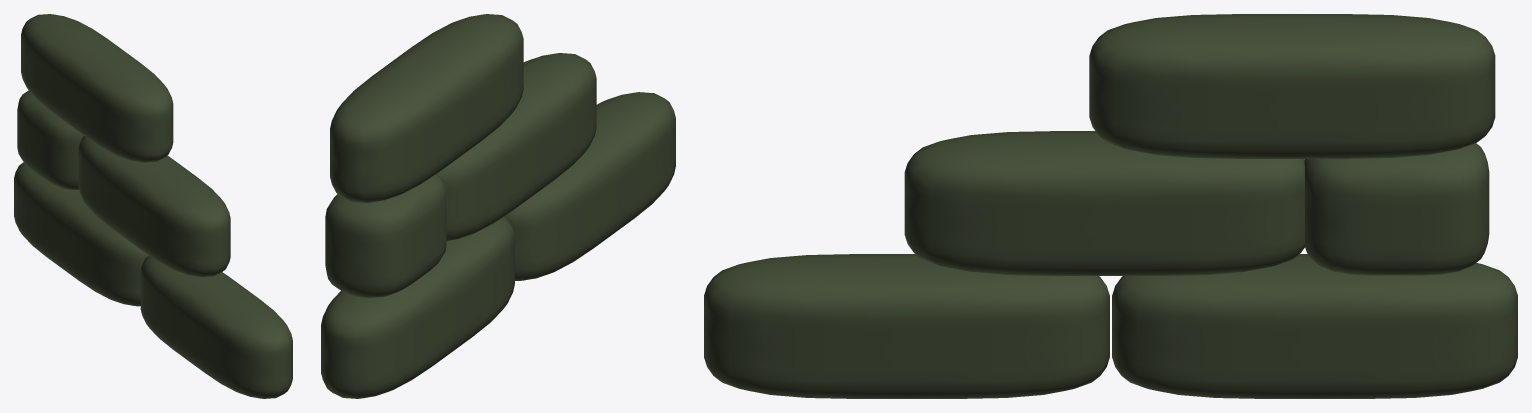
File: Wall 9.fbx
3 renders of one model, left to right at view 1: azimuth 30°, elevation 25°; view 2: azimuth 150°, elevation 25°; view 3: azimuth 270°, elevation 25°, orthographic. The views are drawn at different scales.
Parts seen in each view (by area): view 1: Cube; view 2: Cube; view 3: Cube.
Part boxes in pixels (<box>): Cube: <box>14,14,292,398</box>; Cube: <box>321,14,675,398</box>; Cube: <box>704,14,1517,398</box>.
Bounding box in the file's own units: 81.86 × 283 × 577.
